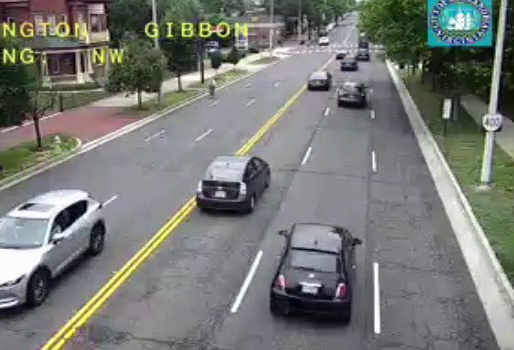car: (270, 222, 355, 314), (195, 156, 270, 209), (338, 83, 366, 106), (308, 72, 330, 89)
